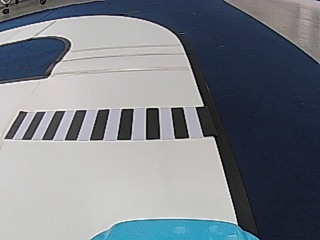CrossWalk: (6, 104, 208, 141)
